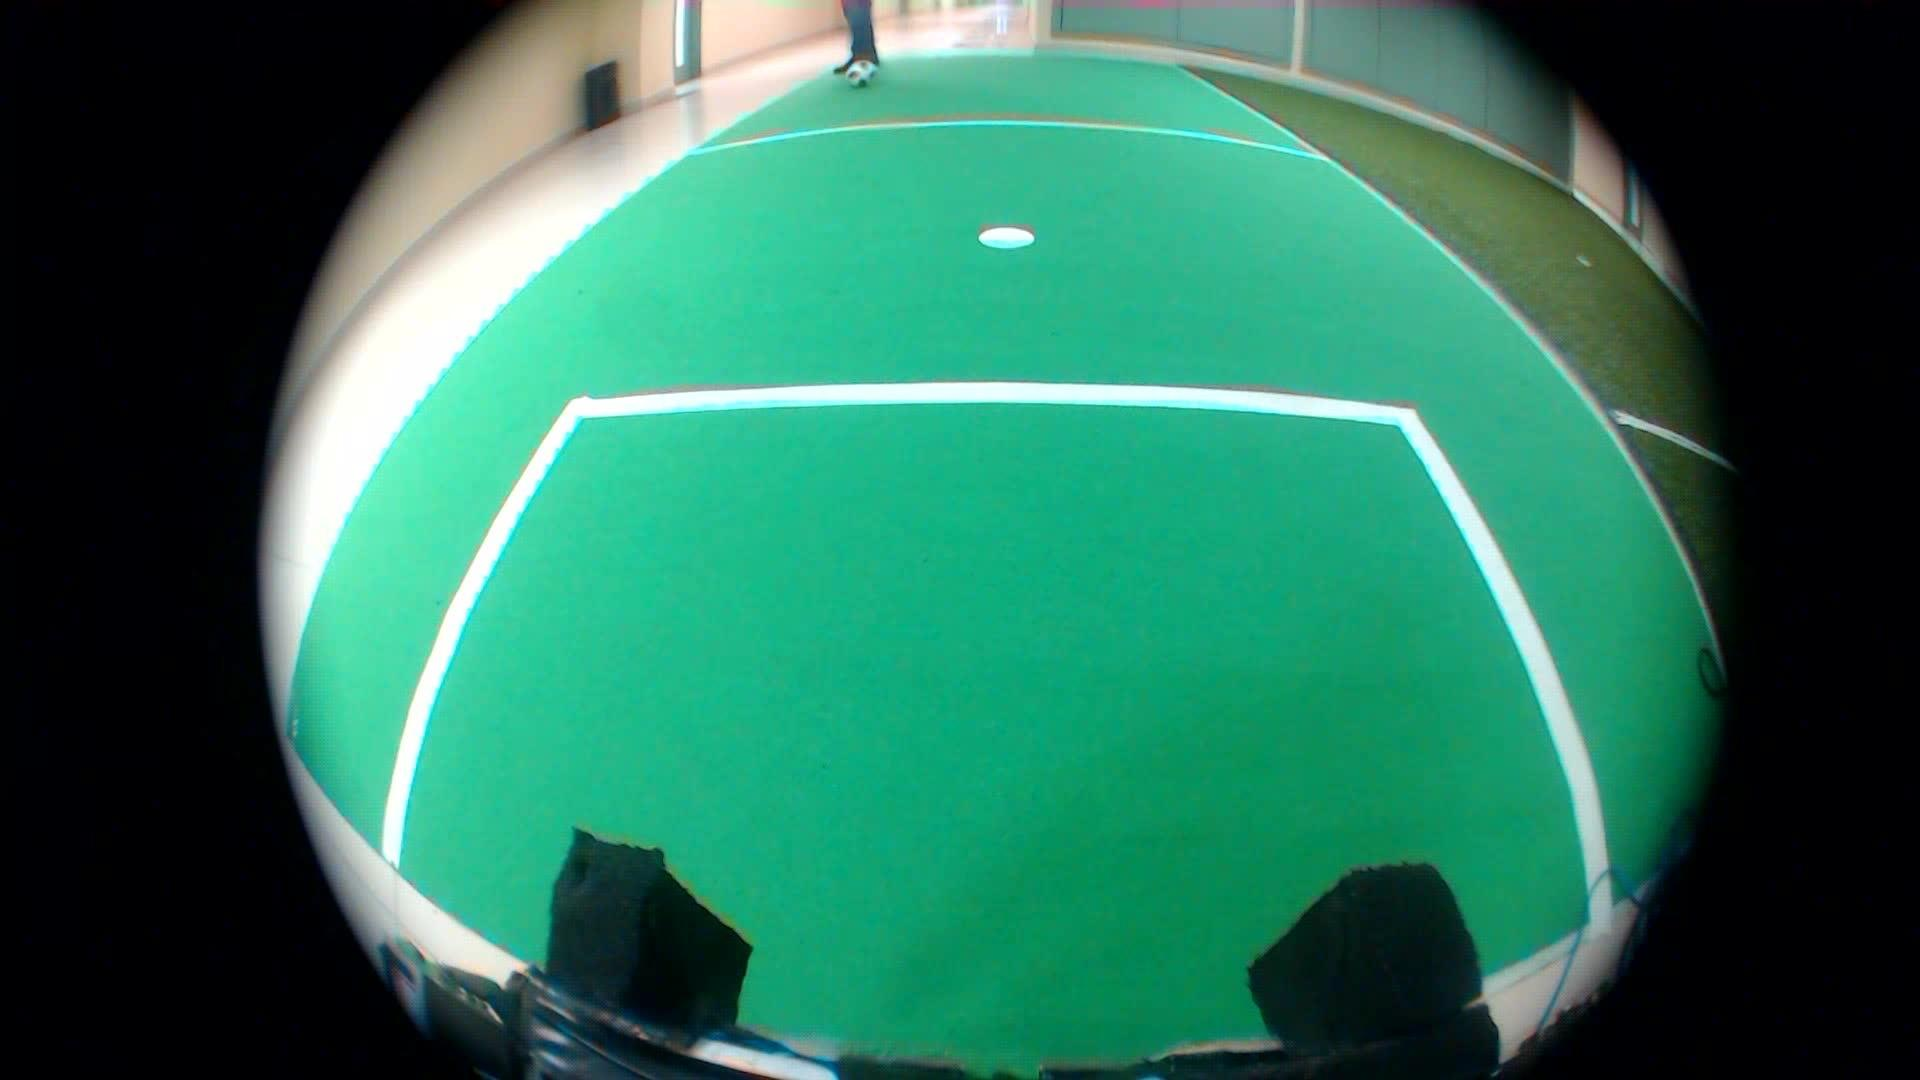ball: (837, 55, 874, 94)
